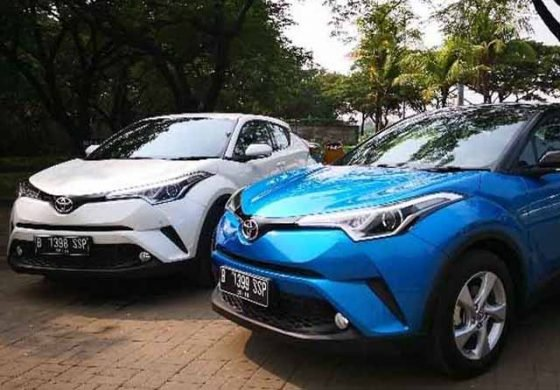mobil: (218, 101, 558, 380), (21, 105, 297, 277)
